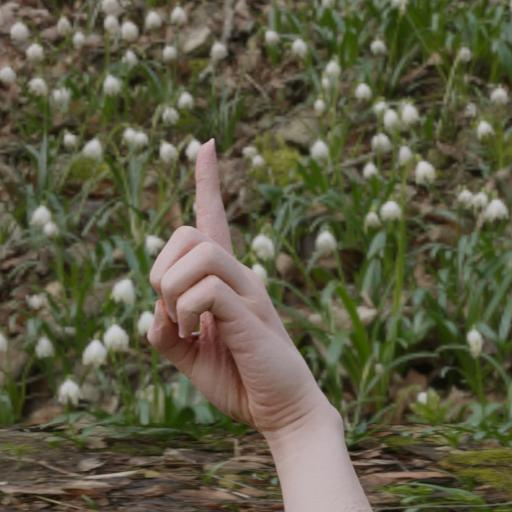D: (107, 102, 393, 512)
